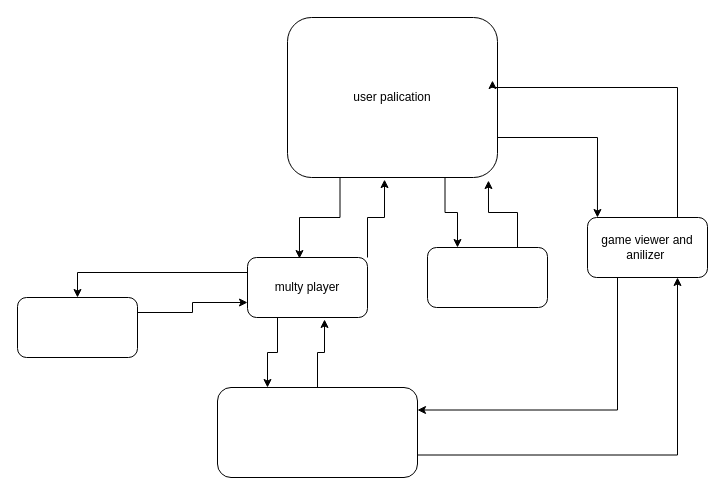
Some shapes in this 725 by 495 pixel diagram are drawn without their labels. Here are the shapes that lost their labels. From the top down, the centre of each, then its label:
At (487,277): "sigal player ai".
At (317,432): "game data".
